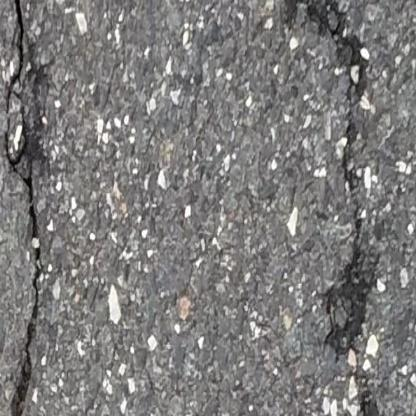Cracks: (273, 0, 395, 416), (0, 0, 66, 416)
